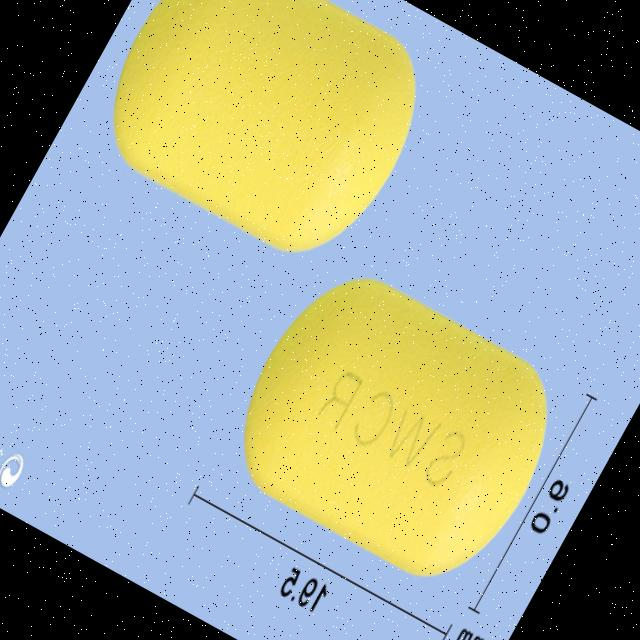Clath: (206, 246, 584, 607), (73, 0, 451, 287)
